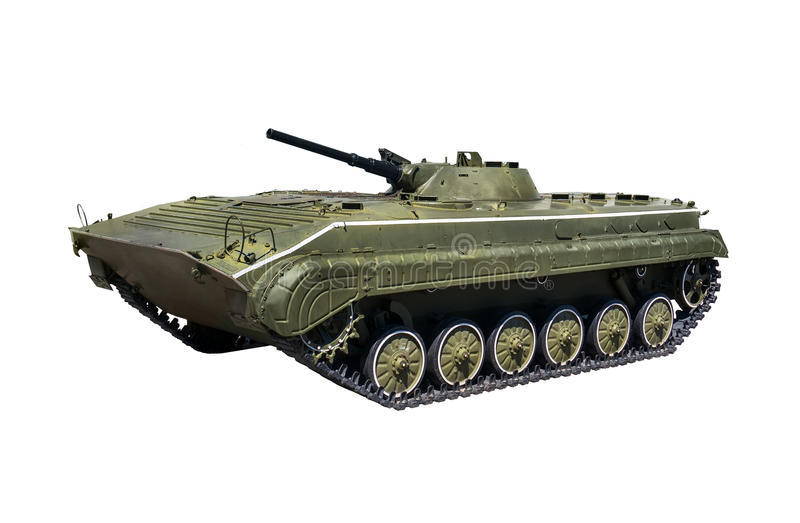bmp1: (77, 124, 730, 403)
